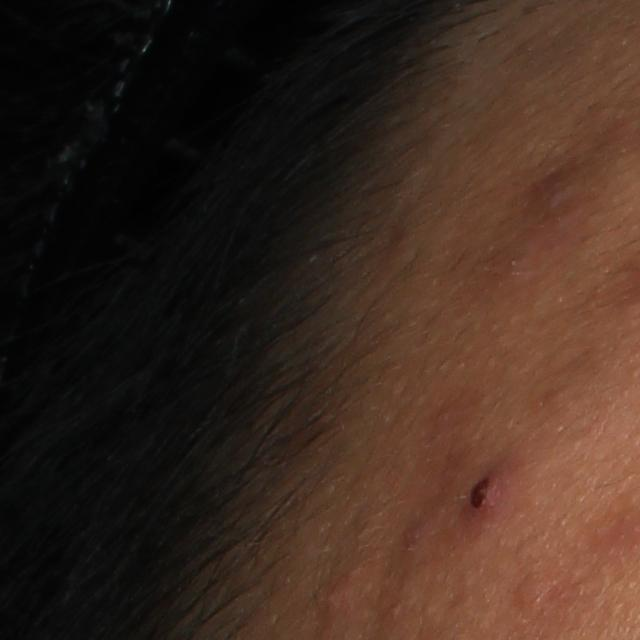papule: (459, 467, 513, 524), (323, 573, 350, 625)
